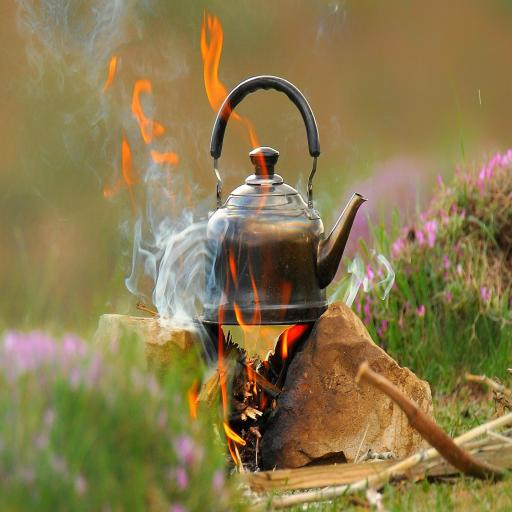campfire: (107, 18, 400, 498)
